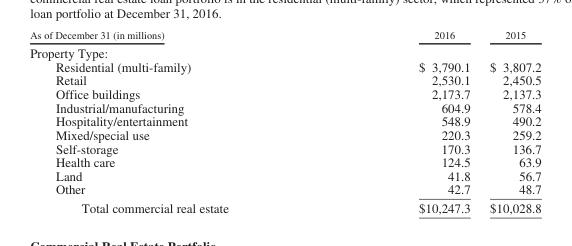table: (29, 29, 540, 215)
table column: (29, 29, 322, 215), (322, 29, 479, 215), (479, 29, 540, 215)
table column header: (29, 29, 540, 43)
table projected row header: (29, 43, 540, 59)
table row: (29, 198, 540, 215), (29, 43, 540, 59), (29, 182, 540, 198), (29, 29, 540, 43), (29, 59, 540, 73), (29, 86, 540, 100), (29, 100, 540, 114), (29, 127, 540, 141), (29, 154, 540, 168), (29, 168, 540, 182), (29, 73, 540, 86), (29, 114, 540, 127), (29, 141, 540, 154)
